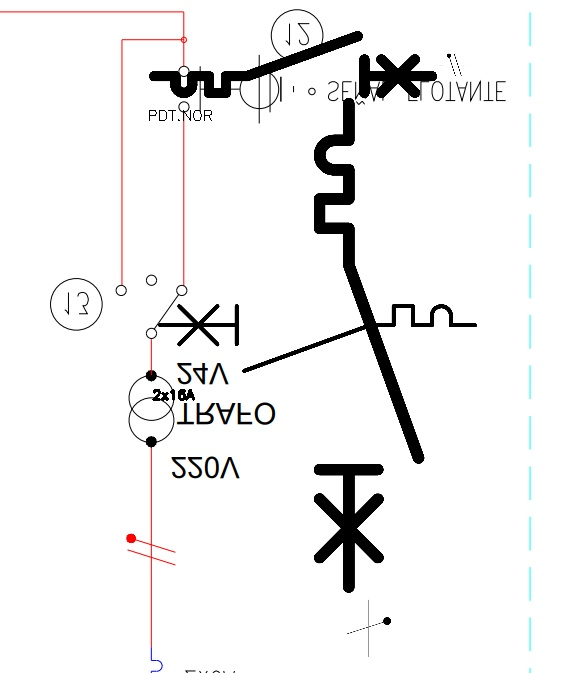interruptor_termomagnetico: (307, 91, 431, 599), (152, 298, 483, 379), (147, 29, 439, 100)
